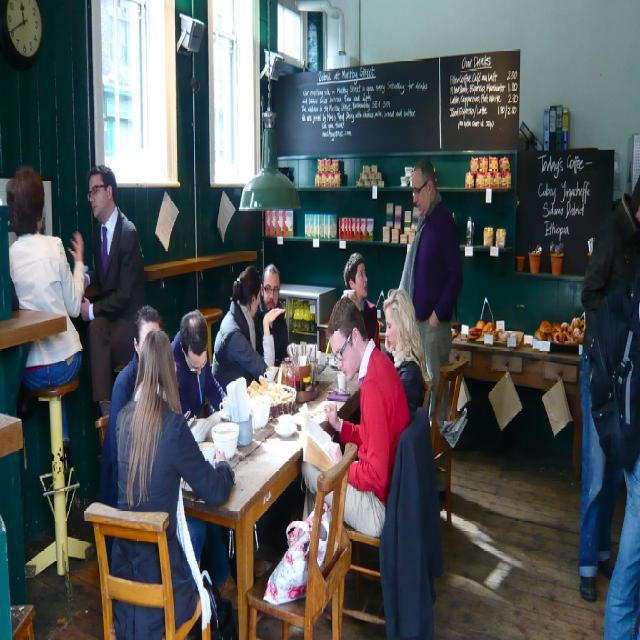chair: (245, 441, 356, 639), (83, 500, 206, 638)
desk: (430, 322, 584, 456)
person: (120, 327, 238, 631), (578, 172, 640, 612), (321, 294, 411, 542), (397, 158, 463, 418), (81, 166, 146, 417), (106, 304, 162, 506), (212, 266, 270, 391), (171, 308, 227, 424), (383, 288, 428, 418), (342, 251, 379, 346), (258, 261, 289, 366)
